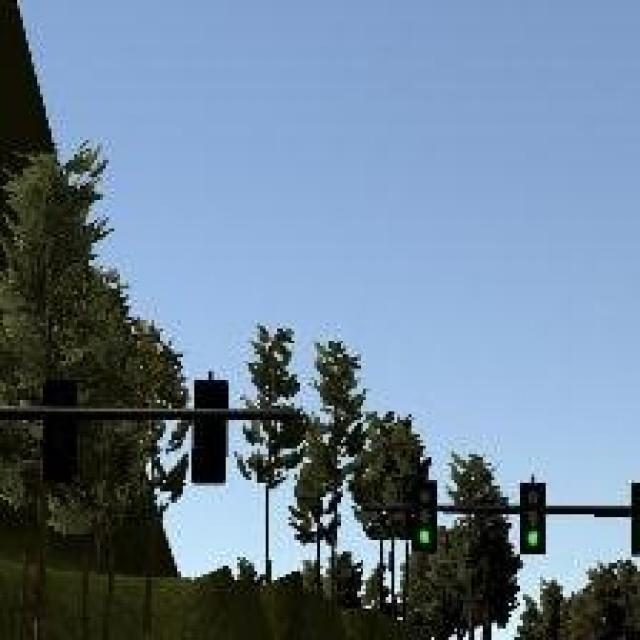green_light: (520, 483, 546, 558), (412, 480, 438, 554)
